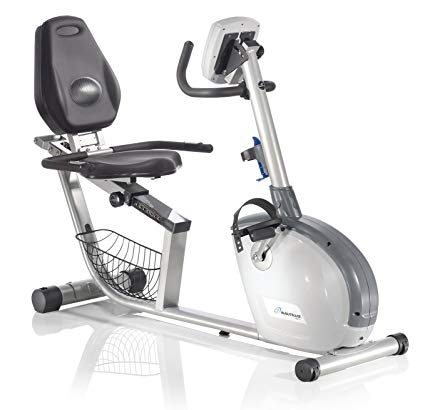gym_bike: (22, 7, 413, 378)
